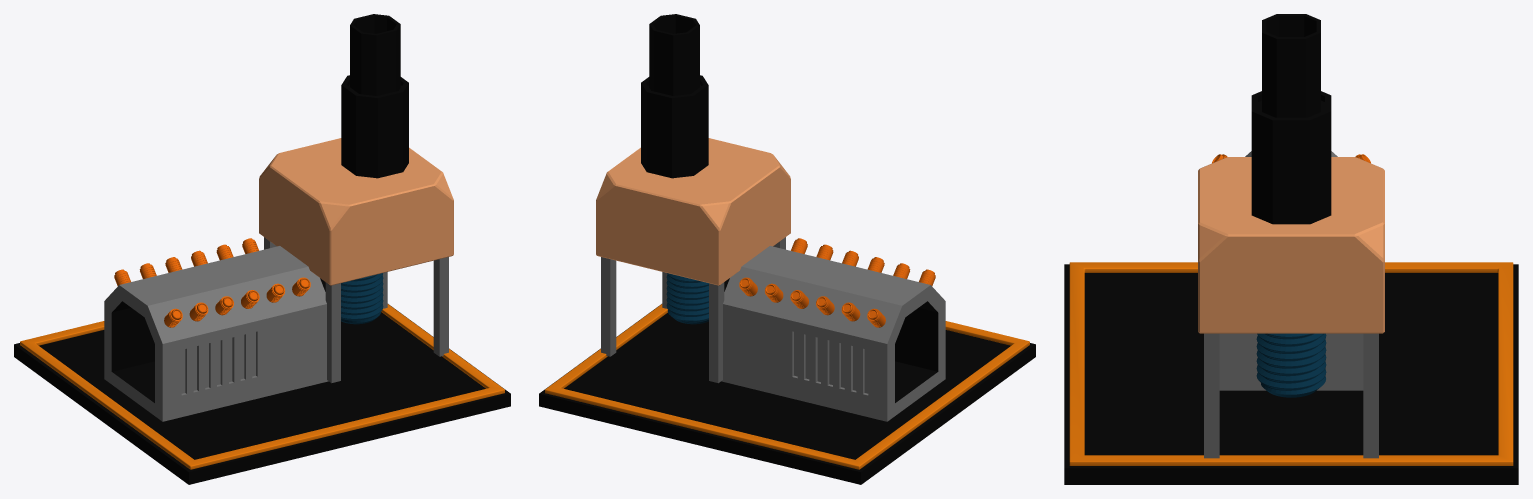
File: MinerMERGED.glb
3 renders of one model, left to right at view 1: azimuth 30°, elevation 25°; view 2: azimuth 150°, elevation 25°; view 3: azimuth 270°, elevation 25°, orthographic. The views are drawn at different scales.
Parts seen in each view (by area): view 1: Cube, Cube.002, Cube.001, Cube.003, Cube.005, Vert, Muffler.001, Bolt; view 2: Cube, Cube.002, Cube.001, Cube.003, Cube.005, Vert, Muffler.001, Bolt; view 3: Cube.002, Cube.001, Cube.003, Cube.005, Cube, Bolt, Vert.
Part boxes in pixels (left/top/right/bottom): Cube: left=104, top=246, right=328, bottom=421; Cube.002: left=14, top=278, right=510, bottom=484; Cube.001: left=259, top=138, right=453, bottom=285; Cube.003: left=341, top=14, right=408, bottom=178; Cube.005: left=20, top=304, right=504, bottom=469; Vert: left=264, top=237, right=448, bottom=383; Muffler.001: left=114, top=238, right=310, bottom=327; Bolt: left=341, top=273, right=383, bottom=324; Cube: left=721, top=246, right=945, bottom=421; Cube.002: left=539, top=278, right=1035, bottom=484; Cube.001: left=596, top=138, right=790, bottom=285; Cube.003: left=641, top=14, right=708, bottom=178; Cube.005: left=545, top=304, right=1029, bottom=469; Vert: left=601, top=237, right=785, bottom=383; Muffler.001: left=739, top=238, right=935, bottom=327; Bolt: left=666, top=273, right=708, bottom=324; Cube.002: left=1064, top=264, right=1518, bottom=484; Cube.001: left=1198, top=157, right=1384, bottom=333; Cube.003: left=1251, top=14, right=1331, bottom=224; Cube.005: left=1069, top=262, right=1513, bottom=465; Cube: left=1219, top=151, right=1363, bottom=390; Bolt: left=1256, top=333, right=1326, bottom=397; Vert: left=1204, top=333, right=1378, bottom=458.
Size of the model in its own units: 0.8185 by 0.8 by 0.7696.
